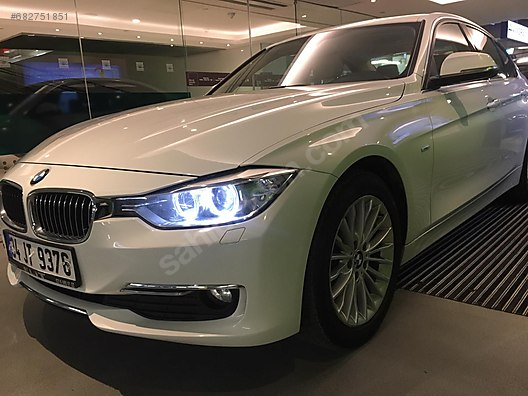bmw: (1, 11, 527, 363)
